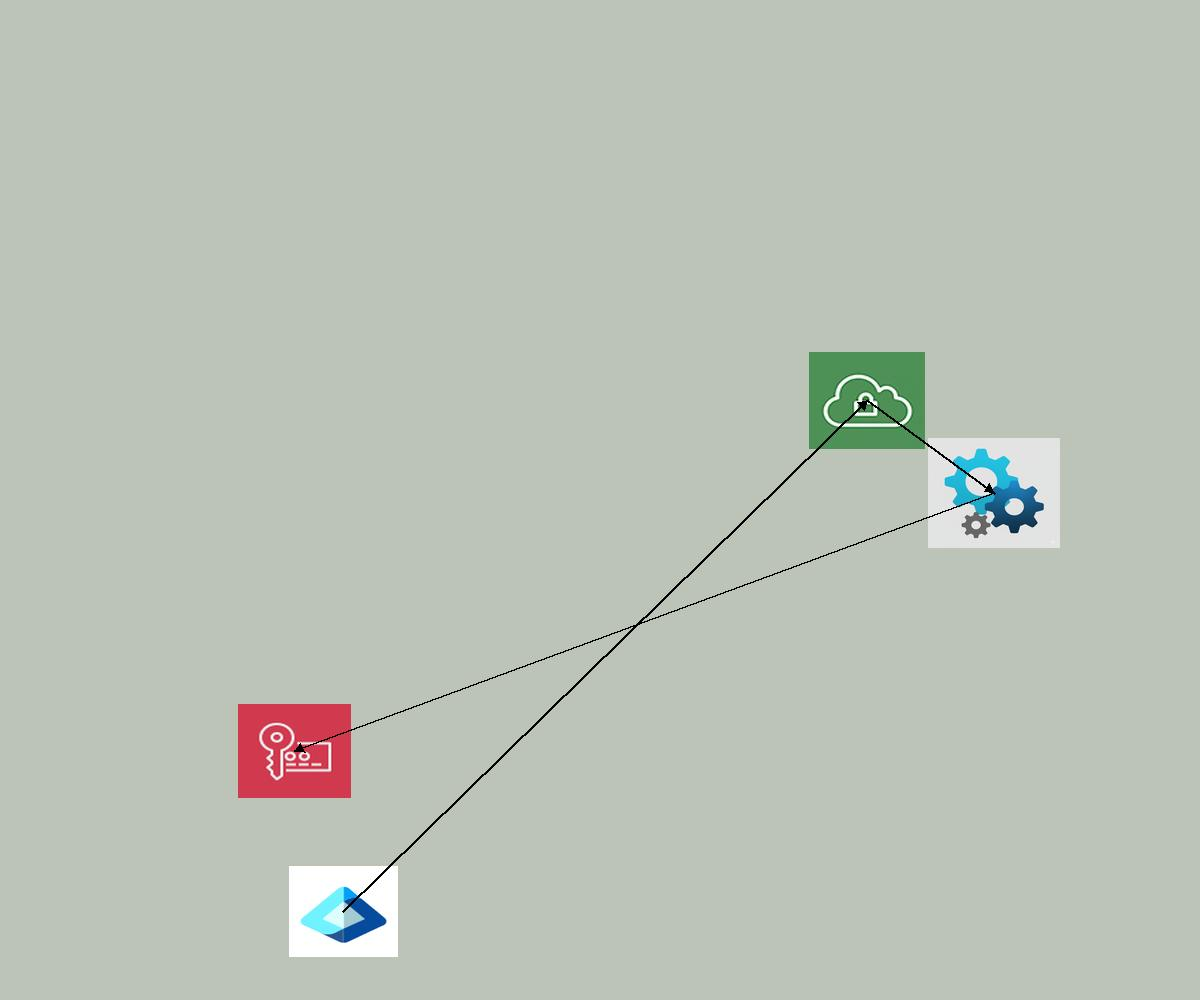AWS-Key-Management-Service: (238, 704, 351, 798)
AWS-Private_vpc: (809, 352, 925, 449)
Azure_api: (928, 438, 1060, 548)
Azure_microsoft_entra: (289, 866, 398, 957)
